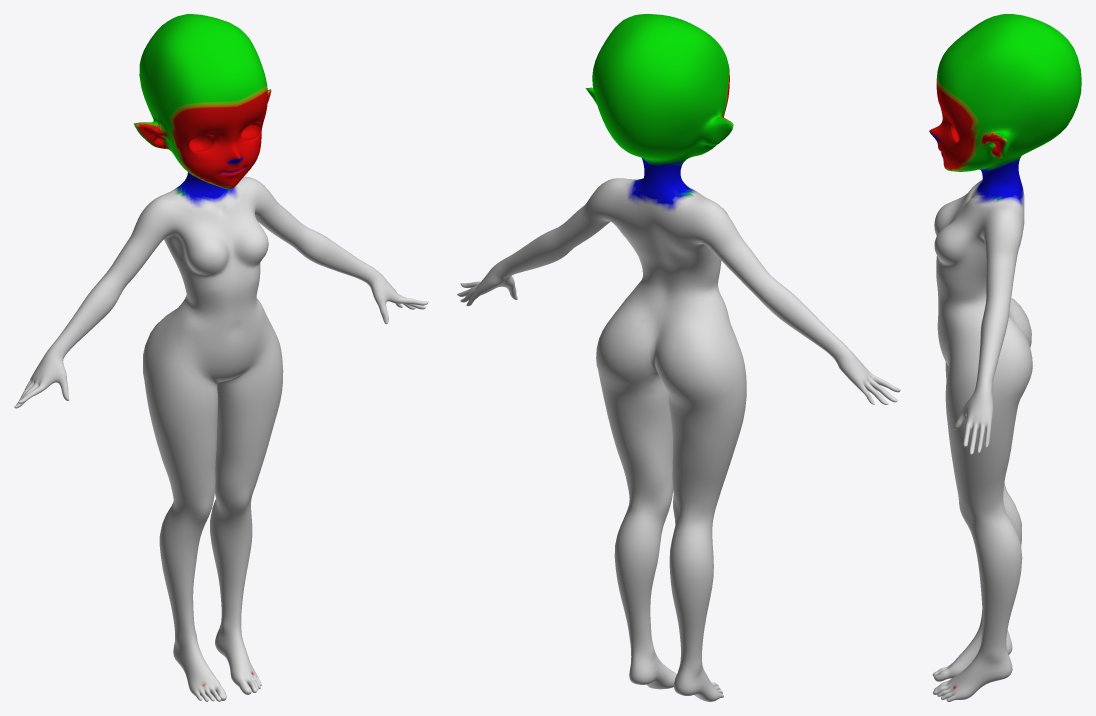
The picture shows the model from 3 angles, left to right: view 1: azimuth 30°, elevation 25°; view 2: azimuth 150°, elevation 25°; view 3: azimuth 270°, elevation 25°; orthographic projection. The views are drawn at different scales.
Visible parts, largest first — view 1: BaseMesh006; view 2: BaseMesh006; view 3: BaseMesh006.
Boxes of the visible parts, x1=… form: BaseMesh006: x1=14, y1=14, x2=428, y2=701; BaseMesh006: x1=457, y1=14, x2=900, y2=701; BaseMesh006: x1=929, y1=14, x2=1081, y2=701.
Size of the model in its own units: 121 by 184 by 38.02.
